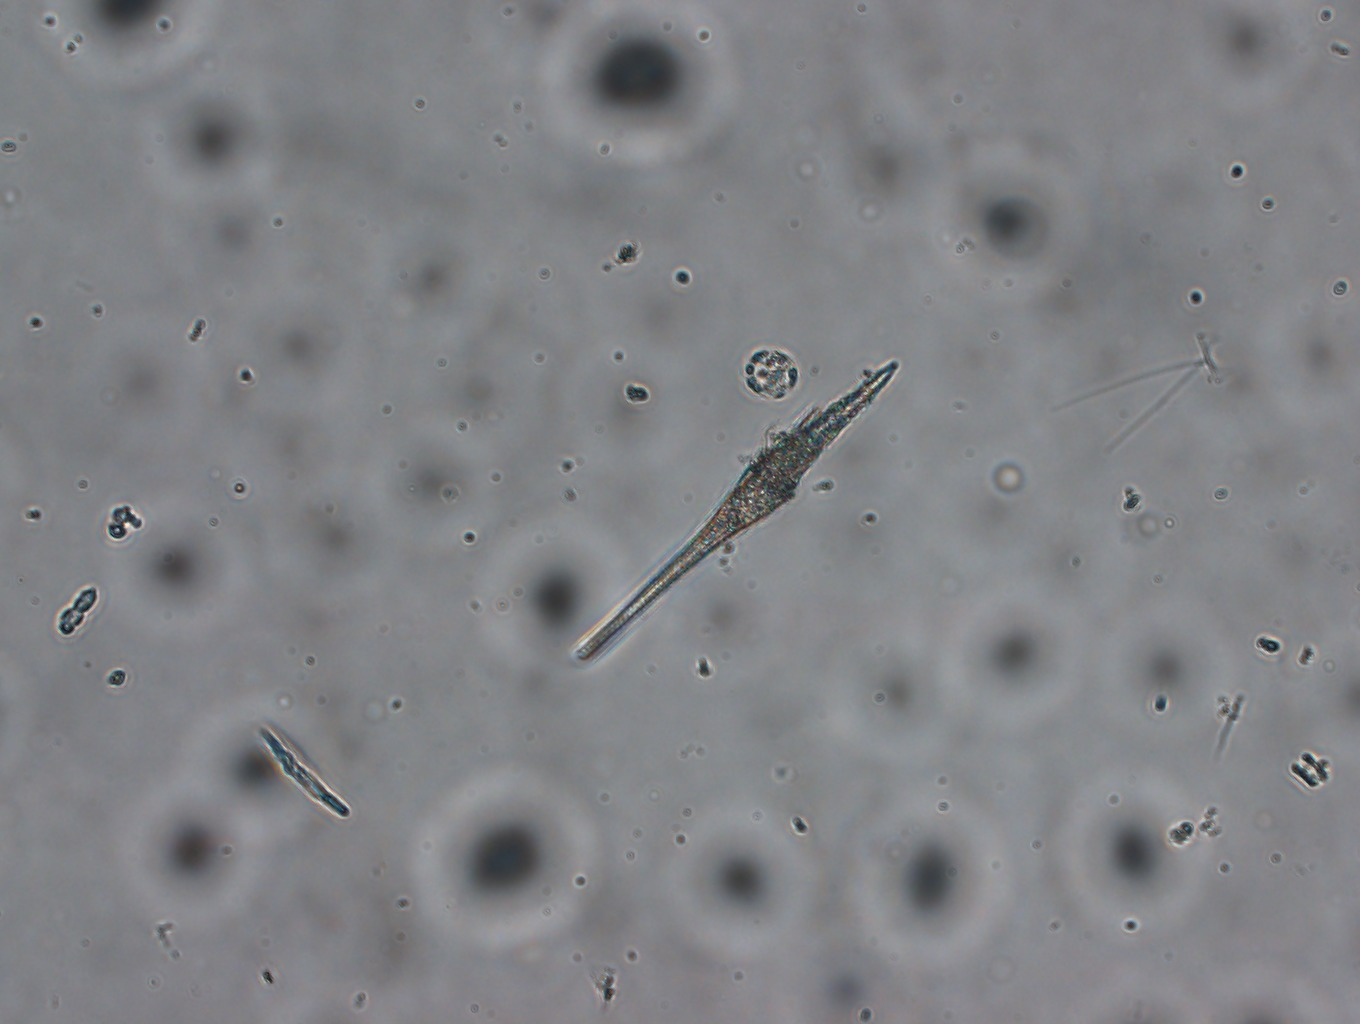ceratium fusus: (571, 358, 914, 674)
